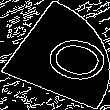O_NW: (11, 24, 99, 86)
